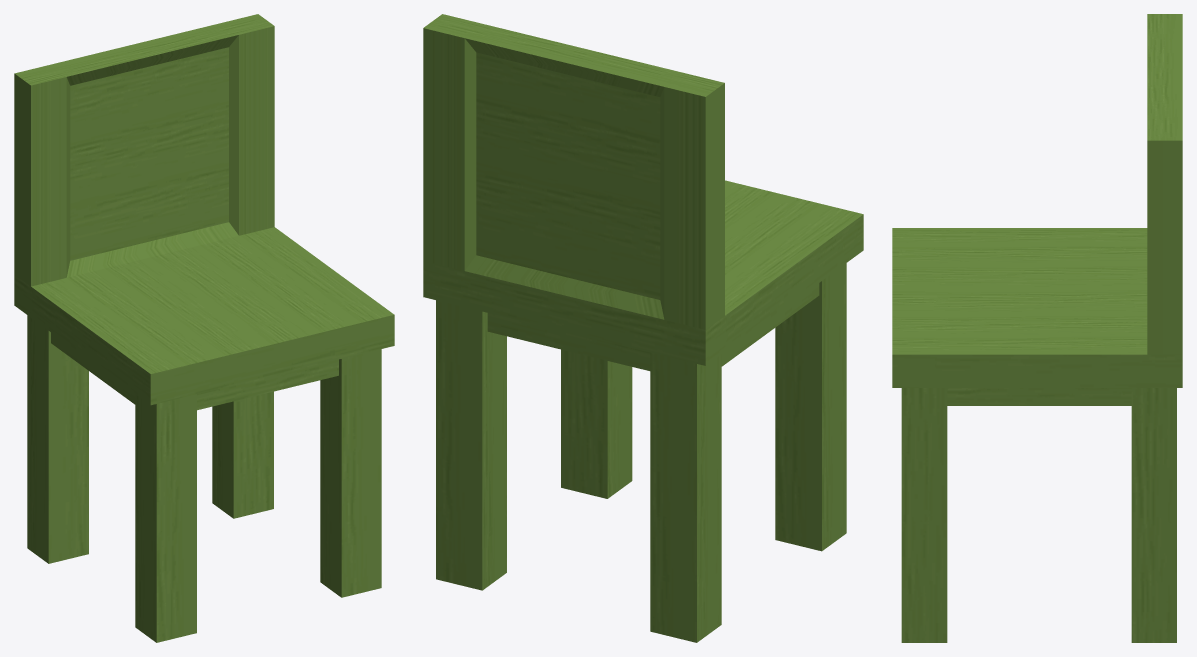
File: Little_Chair_A.FBX
3 views of the same model, side by side, from view 1: azimuth 30°, elevation 25°; view 2: azimuth 150°, elevation 25°; view 3: azimuth 270°, elevation 25° (orthographic). The views are drawn at different scales.
Visible parts, largest first — view 1: Little_Chair; view 2: Little_Chair; view 3: Little_Chair.
Part boxes in pixels (x1,y1,x2,y2): Little_Chair: (14, 14, 394, 642); Little_Chair: (423, 14, 863, 642); Little_Chair: (892, 14, 1182, 642).
Bounding box in the file's own units: 58.74 × 109 × 56.91.
